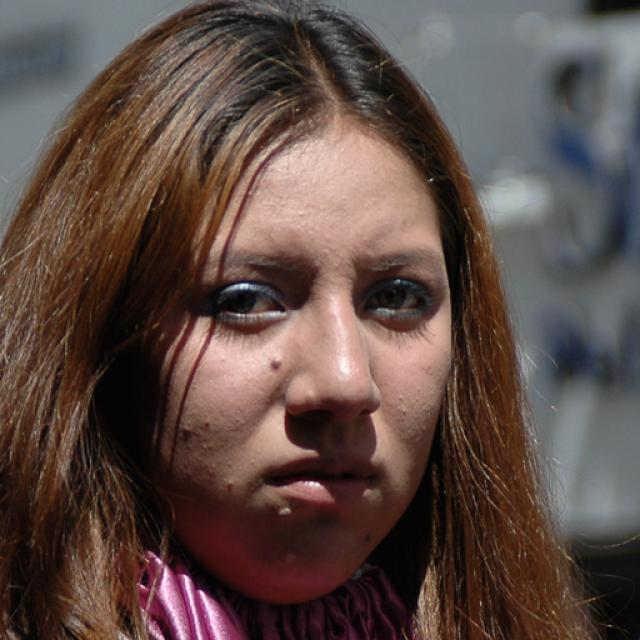Acne: (263, 501, 307, 526), (211, 469, 245, 501), (383, 388, 410, 421), (195, 407, 218, 442), (280, 545, 303, 573), (196, 433, 220, 455)
